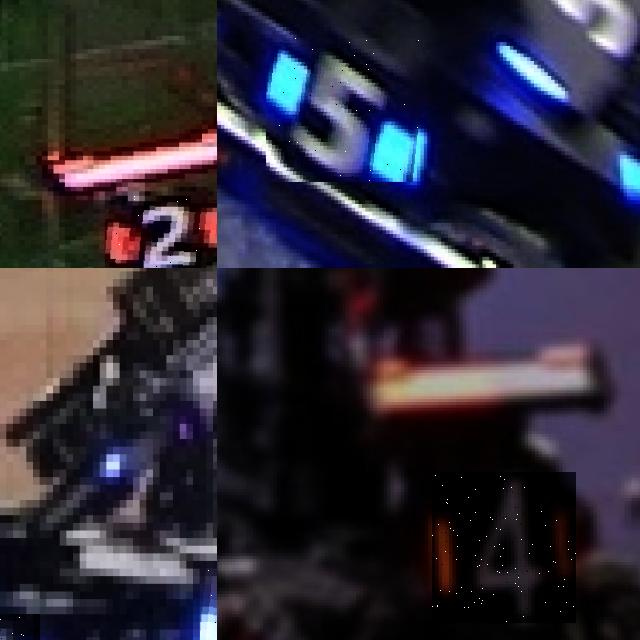B5: (266, 38, 427, 182)
R2: (104, 195, 217, 268)
R4: (432, 472, 576, 623)
